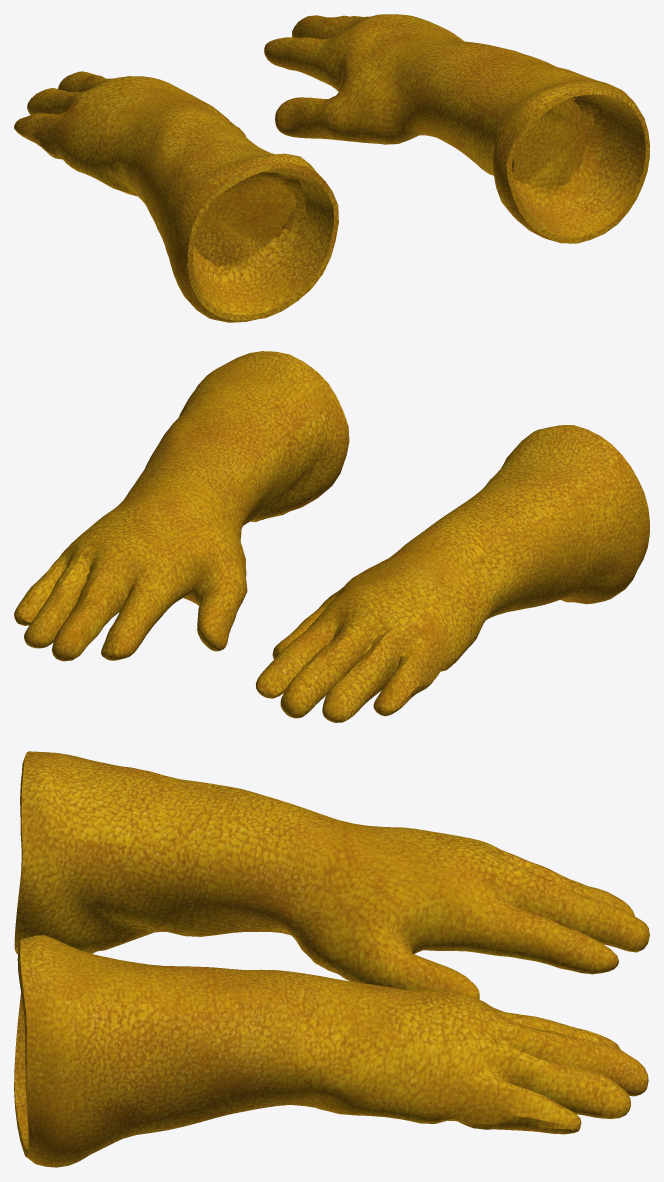
The model's file is glous.fbx.
The picture shows the model from 3 angles, top to bottom: view 1: azimuth 30°, elevation 25°; view 2: azimuth 150°, elevation 25°; view 3: azimuth 270°, elevation 25°; orthographic projection. The views are drawn at different scales.
Visible parts, largest first — view 1: Right_glove; view 2: Right_glove; view 3: Right_glove.
Boxes of the visible parts, x1,y1,x2,y2 form: Right_glove: [14, 14, 649, 322]; Right_glove: [14, 351, 649, 722]; Right_glove: [14, 751, 649, 1167].
Size of the model in its own units: 40.1 by 13.39 by 38.24.
1 material, 1 textured.
